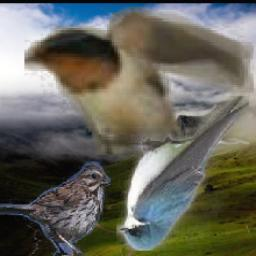Sparrow: (0, 159, 111, 256)
Swallow: (26, 6, 255, 155), (116, 96, 249, 251)
